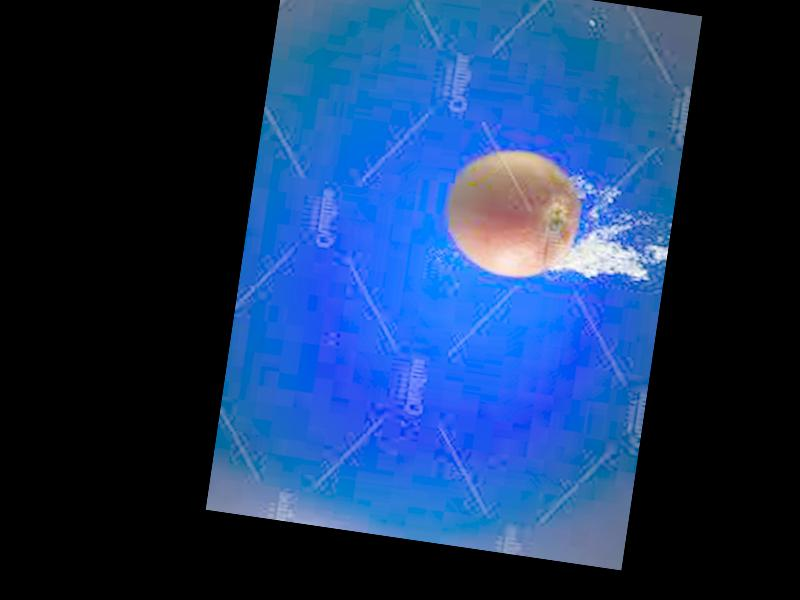Tomato: (442, 141, 588, 284)
